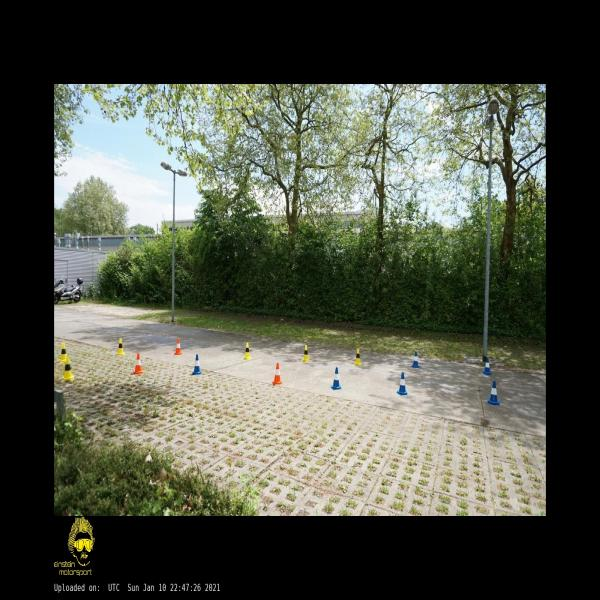blue_cone: (488, 381, 500, 405), (330, 368, 342, 390), (397, 372, 408, 396), (193, 354, 201, 375), (483, 358, 491, 374), (412, 352, 420, 367)
orange_cone: (133, 353, 143, 374), (273, 363, 282, 384), (174, 338, 182, 354)
yellow_cone: (61, 357, 74, 380), (354, 348, 362, 366), (117, 338, 125, 354), (243, 342, 251, 358), (302, 345, 310, 361), (60, 343, 66, 362)
